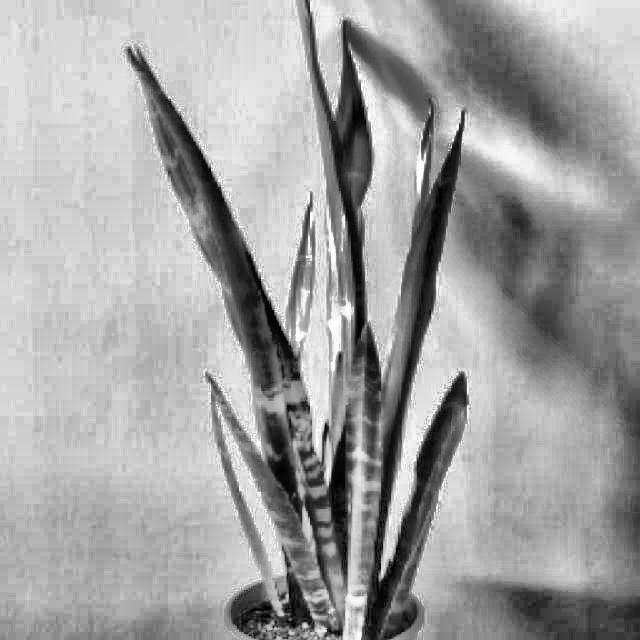plants: (81, 0, 506, 608)
